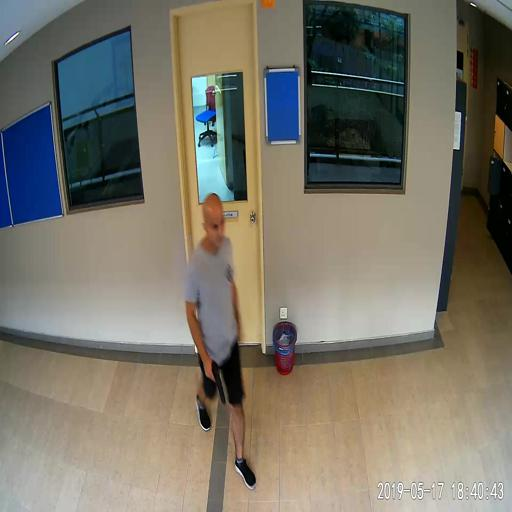pistol: (202, 359, 229, 406)
